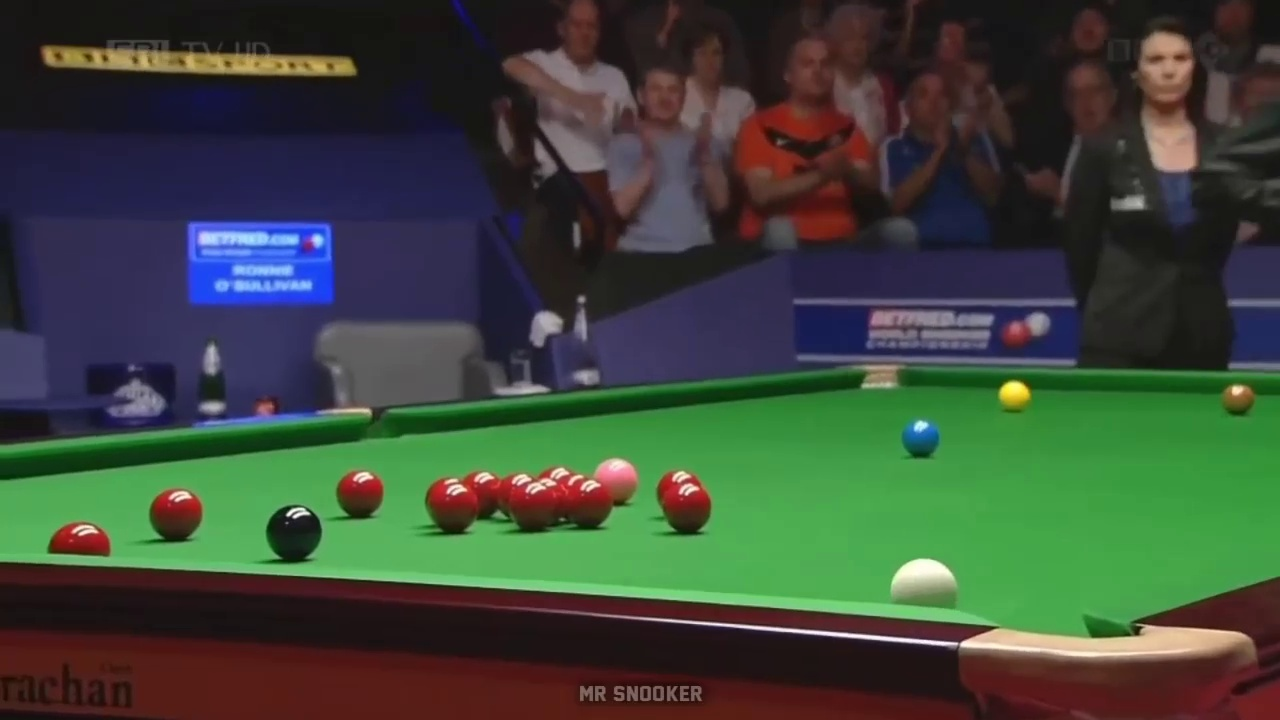black: (267, 506, 322, 560)
blue: (899, 415, 940, 456)
brown: (1226, 382, 1254, 414)
pink: (597, 460, 637, 490)
red: (146, 492, 202, 537), (331, 471, 385, 517), (509, 483, 557, 531), (665, 489, 711, 536), (429, 483, 477, 528)
white: (889, 556, 959, 607)
yellow: (998, 382, 1031, 410)
